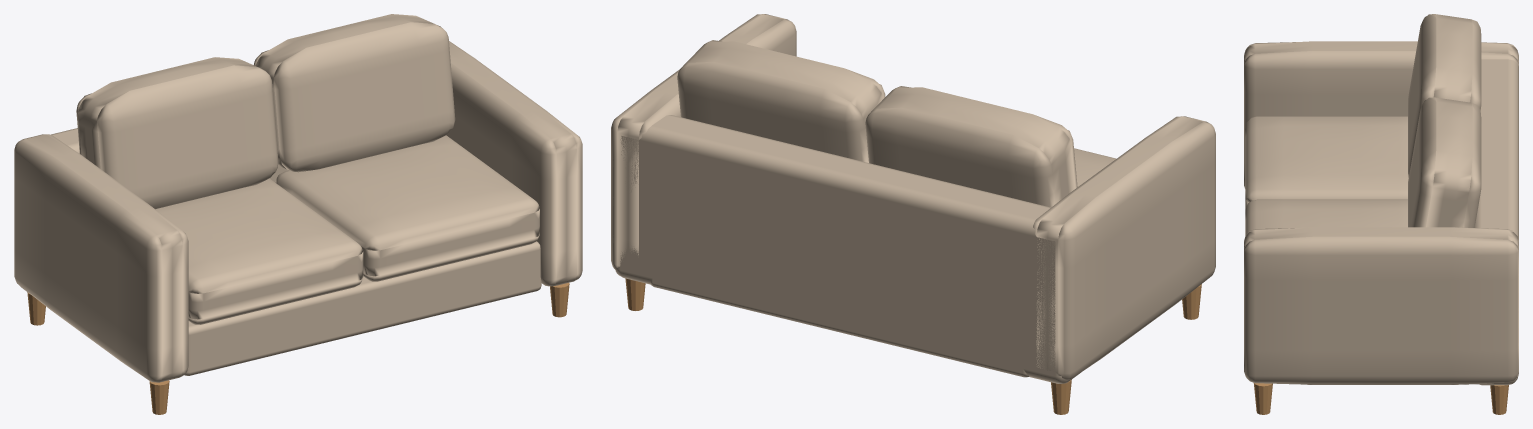
File: sofa_2seat.glb
3 renders of one model, left to right at view 1: azimuth 30°, elevation 25°; view 2: azimuth 150°, elevation 25°; view 3: azimuth 270°, elevation 25°, orthographic. The views are drawn at different scales.
Visible parts, largest first — view 1: sofa_2seat; view 2: sofa_2seat; view 3: sofa_2seat.
Boxes of the visible parts, x1,y1,x2,y2 form: sofa_2seat: (14, 14, 582, 414); sofa_2seat: (611, 14, 1215, 414); sofa_2seat: (1244, 14, 1518, 414).
Bounding box in the file's own units: 1.5 × 0.8 × 0.85.
